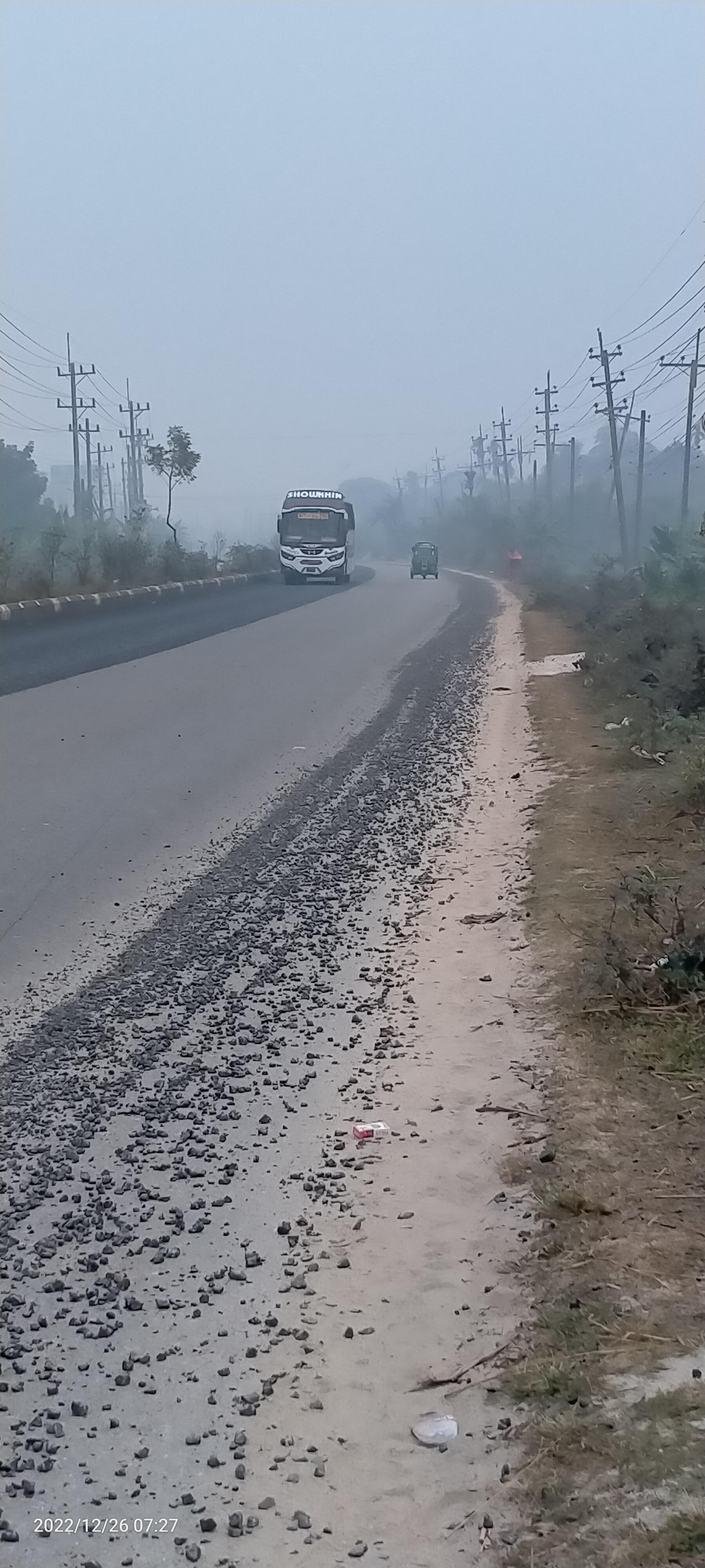Bus: (269, 477, 362, 594)
